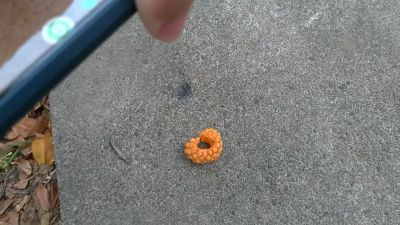eggs: (183, 126, 225, 167)
